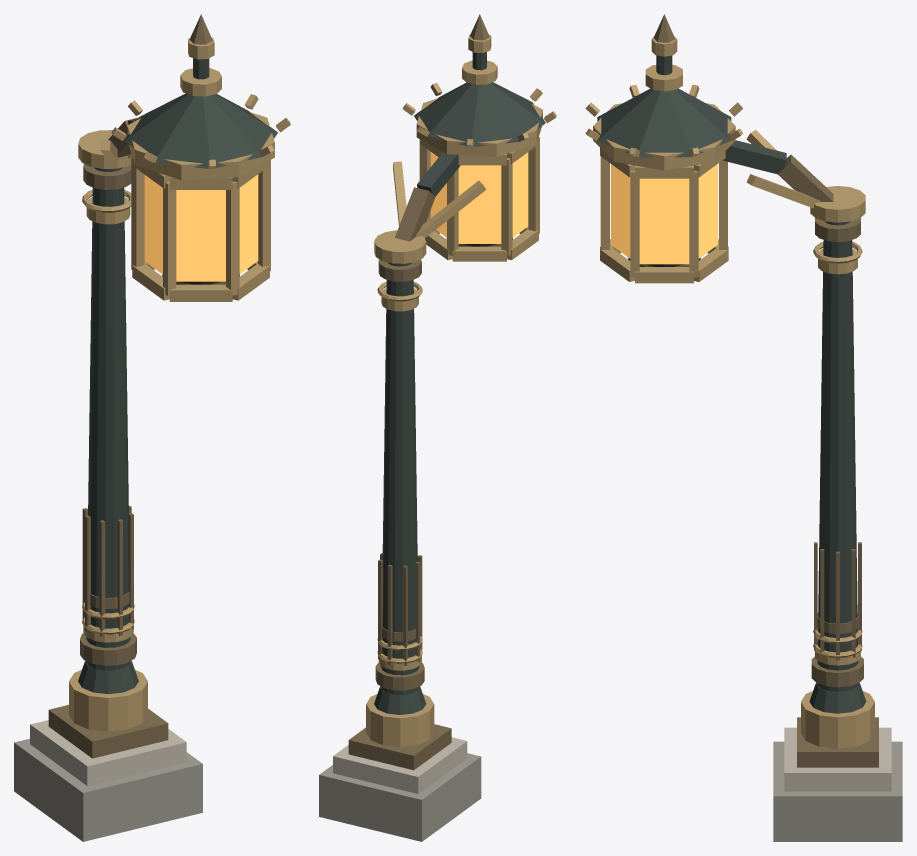
The model's file is Heritage_Streetlight.fbx.
3 renders of one model, left to right at view 1: azimuth 30°, elevation 25°; view 2: azimuth 150°, elevation 25°; view 3: azimuth 270°, elevation 25°, orthographic. The views are drawn at different scales.
Visible parts, largest first — view 1: Tall tapered cast iron pole, Square granite footing, Raised pagoda lantern canopy, Large amber glass lantern panel.003, Granite bevelled upper step, Lower ornamental socket, Bronze foot plate, Lantern roof eave plate, Large amber glass lantern panel.004, Large amber glass lantern panel.002, Lantern heavy vertical bronze stile.004, Lantern heavy vertical bronze stile.003 (+16 smaller); view 2: Tall tapered cast iron pole, Square granite footing, Raised pagoda lantern canopy, Granite bevelled upper step, Large amber glass lantern panel.001, Lower ornamental socket, Bronze foot plate, Lantern roof eave plate, Decorative turned pole collar.005, Large amber glass lantern panel.002, Arm rising from pole, Lantern heavy vertical bronze stile.002 (+16 smaller); view 3: Tall tapered cast iron pole, Square granite footing, Raised pagoda lantern canopy, Large amber glass lantern panel.005, Granite bevelled upper step, Lower ornamental socket, Lantern roof eave plate, Bronze foot plate, Large amber glass lantern panel, Large amber glass lantern panel.004, Decorative turned pole collar.005, Arm projecting outward (+14 smaller).
Part boxes in pixels (x1=…): Tall tapered cast iron pole: x1=86, y1=167, x2=130, y2=670; Square granite footing: x1=14, y1=738, x2=202, y2=841; Raised pagoda lantern canopy: x1=124, y1=93, x2=277, y2=169; Large amber glass lantern panel.003: x1=176, y1=190, x2=225, y2=281; Granite bevelled upper step: x1=30, y1=720, x2=186, y2=786; Lower ornamental socket: x1=69, y1=670, x2=147, y2=731; Bronze foot plate: x1=48, y1=705, x2=168, y2=758; Lantern roof eave plate: x1=127, y1=112, x2=274, y2=180; Large amber glass lantern panel.004: x1=239, y1=174, x2=258, y2=273; Large amber glass lantern panel.002: x1=144, y1=175, x2=162, y2=274; Lantern heavy vertical bronze stile.004: x1=226, y1=181, x2=239, y2=295; Lantern heavy vertical bronze stile.003: x1=163, y1=181, x2=176, y2=295; Tall tapered cast iron pole: x1=381, y1=262, x2=419, y2=694; Square granite footing: x1=319, y1=753, x2=481, y2=841; Raised pagoda lantern canopy: x1=414, y1=82, x2=545, y2=147; Granite bevelled upper step: x1=333, y1=737, x2=467, y2=793; Large amber glass lantern panel.001: x1=458, y1=165, x2=501, y2=243; Lower ornamental socket: x1=366, y1=694, x2=434, y2=747; Bronze foot plate: x1=348, y1=724, x2=451, y2=770; Lantern roof eave plate: x1=416, y1=98, x2=542, y2=156; Decorative turned pole collar.005: x1=374, y1=230, x2=426, y2=263; Large amber glass lantern panel.002: x1=512, y1=152, x2=528, y2=237; Arm rising from pole: x1=394, y1=187, x2=435, y2=241; Lantern heavy vertical bronze stile.002: x1=501, y1=158, x2=512, y2=256; Tall tapered cast iron pole: x1=817, y1=221, x2=858, y2=691; Square granite footing: x1=773, y1=741, x2=902, y2=841; Raised pagoda lantern canopy: x1=597, y1=88, x2=731, y2=157; Large amber glass lantern panel.005: x1=639, y1=178, x2=689, y2=264; Granite bevelled upper step: x1=784, y1=727, x2=891, y2=791; Lower ornamental socket: x1=801, y1=691, x2=874, y2=748; Lantern roof eave plate: x1=593, y1=103, x2=735, y2=170; Bronze foot plate: x1=797, y1=717, x2=878, y2=767; Large amber glass lantern panel: x1=698, y1=164, x2=717, y2=258; Large amber glass lantern panel.004: x1=611, y1=164, x2=630, y2=258; Decorative turned pole collar.005: x1=810, y1=186, x2=865, y2=222; Arm projecting outward: x1=722, y1=140, x2=786, y2=174.
Size of the model in its own units: 100 by 560 by 201.
